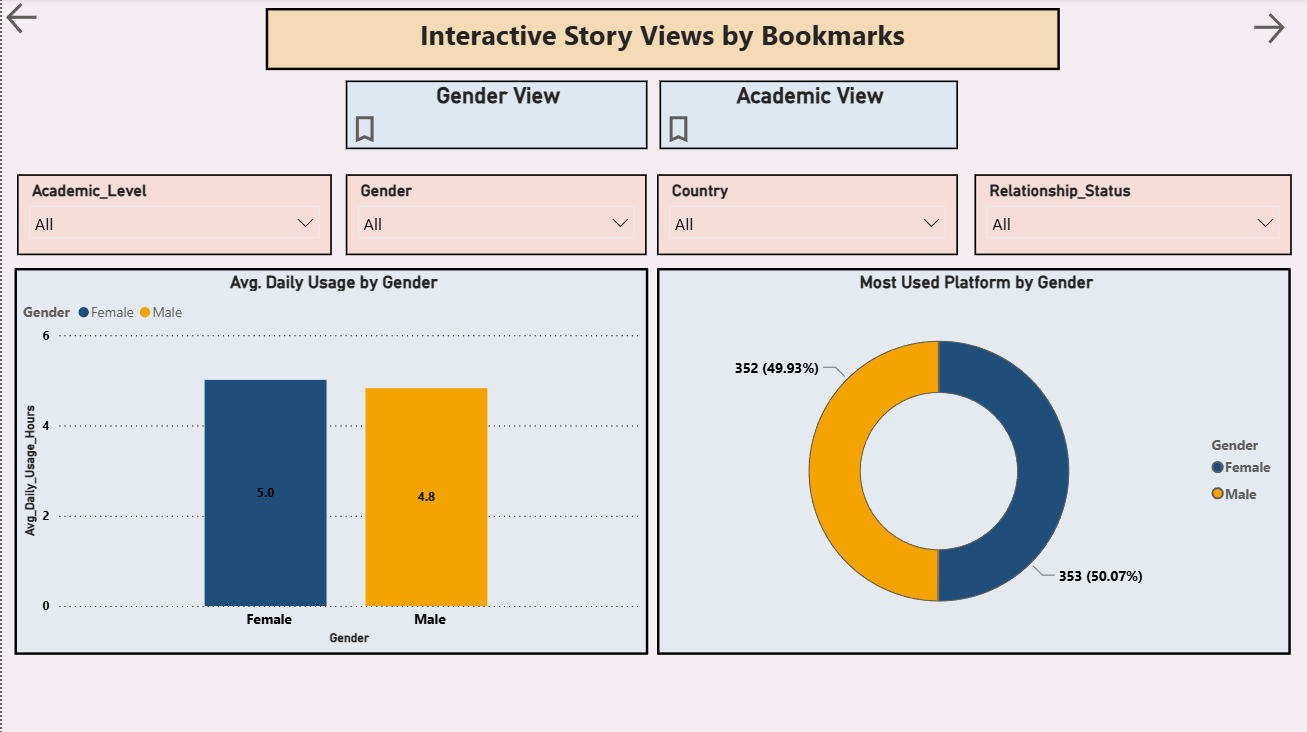

The page's visual inventory and layout, read from the dashboard file:
{"tool":"powerbi","page":{"name":"Bookmark View ","canvas":[1280,720],"ordinal":5},"visuals":[{"type":"columnChart","title":"Avg. Daily Usage by  Academic Level","fields":{"Y":["Avg(Platform Details.Avg_Daily_Usage_Hours)"],"Category":["Student Details.Academic_Level"],"Series":["Student Details.Academic_Level"]},"box":[12.4,264.4,620,378.6],"z":2000},{"type":"pieChart","title":"Most Used Platform by Academic Level","fields":{"Category":["Student Details.Academic_Level"],"Y":["CountNonNull(Platform Details.Most_Used_Platform)"]},"box":[640,264,620.6,378],"z":3000},{"type":"actionButton","title":"Gender View","box":[336.4,80.7,295.4,67],"z":4000},{"type":"actionButton","title":"Academic View","box":[643,80.7,291.7,67],"z":5000},{"type":"textbox","box":[258.2,9.9,777,60.8],"z":6000},{"type":"slicer","fields":{"Values":["Student Details.Academic_Level"]},"box":[14.9,172.5,307.8,79.4],"z":7000},{"type":"slicer","fields":{"Values":["Student Details.Gender"]},"box":[336.4,172.5,294.2,79.4],"z":8000},{"type":"slicer","fields":{"Values":["Student Details.Country"]},"box":[640.5,172.5,294.2,79.4],"z":9000},{"type":"slicer","fields":{"Values":["Student Details.Relationship_Status"]},"box":[950.8,172.5,310.3,79.4],"z":10000},{"type":"actionButton","box":[1218.9,9.9,60.8,39.7],"z":11000},{"type":"actionButton","box":[0,0,77,39.7],"z":12000}]}

Visuals, with their boxes in screenshot pixels (x1, y1, x2, y2), scaled from the page's 1280x720 canvas onto the 1307x732 screenshot:
"Avg. Daily Usage by  Academic Level" columnChart: <bbox>13, 269, 646, 654</bbox>
"Most Used Platform by Academic Level" pieChart: <bbox>654, 268, 1287, 653</bbox>
"Gender View" actionButton: <bbox>343, 82, 645, 150</bbox>
"Academic View" actionButton: <bbox>657, 82, 954, 150</bbox>
textbox: <bbox>264, 10, 1057, 72</bbox>
slicer - Student Details.Academic_Level: <bbox>15, 175, 330, 256</bbox>
slicer - Student Details.Gender: <bbox>343, 175, 644, 256</bbox>
slicer - Student Details.Country: <bbox>654, 175, 954, 256</bbox>
slicer - Student Details.Relationship_Status: <bbox>971, 175, 1288, 256</bbox>
actionButton: <bbox>1245, 10, 1306, 50</bbox>
actionButton: <bbox>0, 0, 79, 40</bbox>
